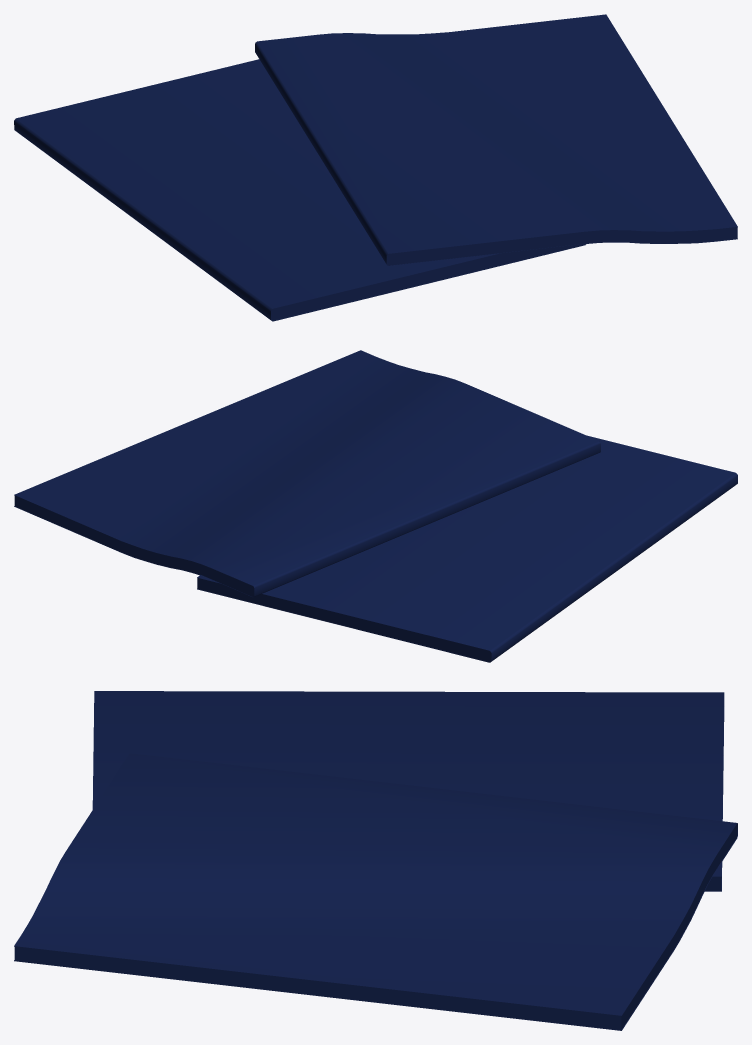
Rendered from magazine.obj.
3 renders of one model, top to bottom at view 1: azimuth 30°, elevation 25°; view 2: azimuth 150°, elevation 25°; view 3: azimuth 270°, elevation 25°, orthographic. The views are drawn at different scales.
Parts seen in each view (by area): view 1: igloo_02, igloo_01; view 2: igloo_02, igloo_01; view 3: igloo_02, igloo_01.
Boxes of the visible parts, x1=… form: igloo_02: x1=255, y1=14, x2=737, y2=265; igloo_01: x1=14, y1=59, x2=586, y2=321; igloo_02: x1=14, y1=350, x2=600, y2=597; igloo_01: x1=197, y1=435, x2=737, y2=662; igloo_02: x1=14, y1=753, x2=737, y2=1030; igloo_01: x1=92, y1=691, x2=724, y2=891.
Size of the model in its own units: 0.1534 by 0.0068 by 0.1433.
